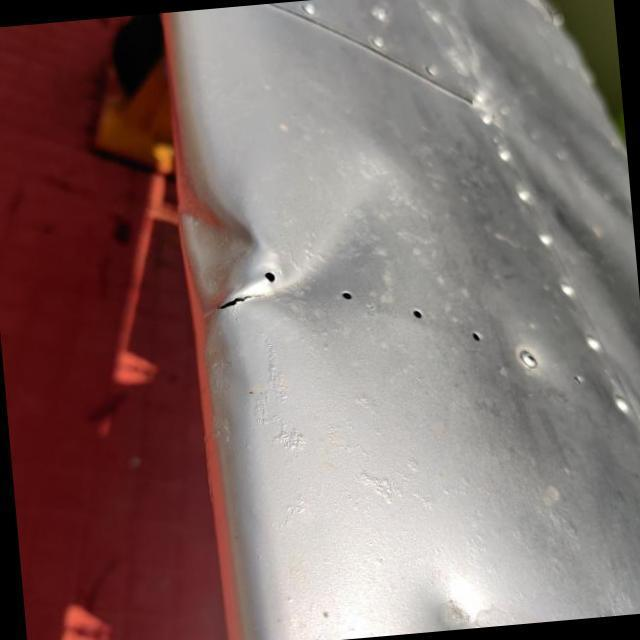Dent: (145, 136, 415, 350)
Rupture: (203, 279, 274, 326)
